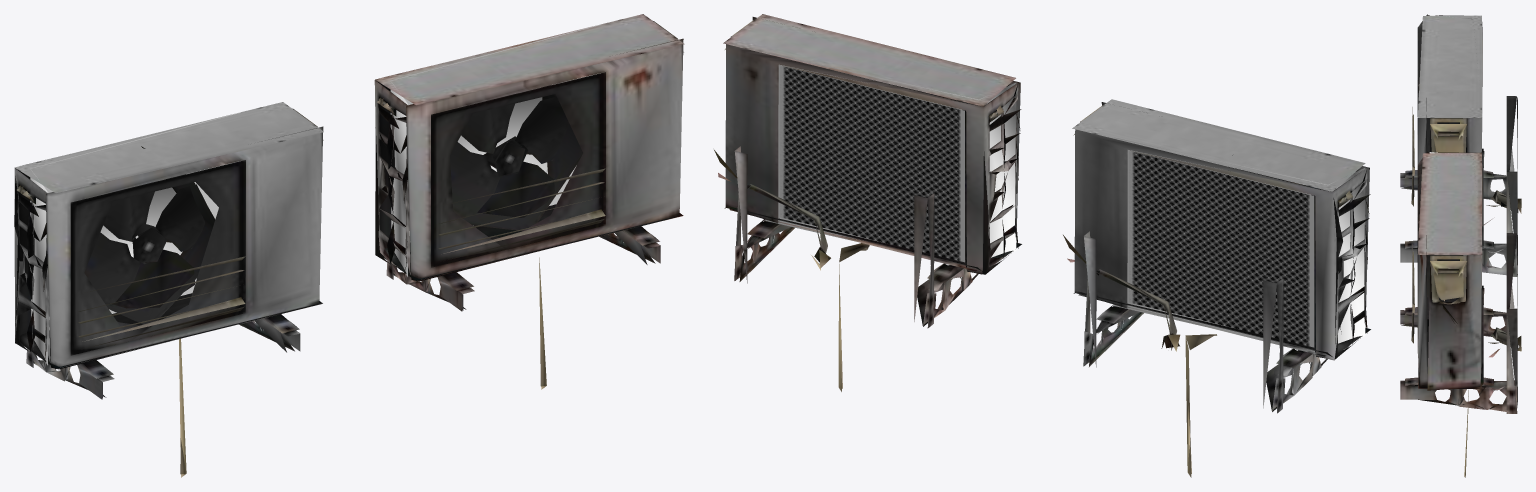
The model's file is aircon-low.glb.
3 views of the same model, side by side, from view 1: azimuth 30°, elevation 25°; view 2: azimuth 150°, elevation 25°; view 3: azimuth 270°, elevation 25° (orthographic). The views are drawn at different scales.
Parts seen in each view (by area): view 1: exterior_aircon_unit baked, exterior_aircon_unit_rusted baked; view 2: exterior_aircon_unit baked, exterior_aircon_unit_rusted baked; view 3: exterior_aircon_unit_rusted baked, exterior_aircon_unit baked.
Boxes of the visible parts, x1=… form: exterior_aircon_unit baked: x1=14, y1=102, x2=323, y2=477; exterior_aircon_unit_rusted baked: x1=374, y1=14, x2=684, y2=389; exterior_aircon_unit baked: x1=1063, y1=99, x2=1370, y2=477; exterior_aircon_unit_rusted baked: x1=714, y1=14, x2=1021, y2=391; exterior_aircon_unit_rusted baked: x1=1400, y1=151, x2=1521, y2=477; exterior_aircon_unit baked: x1=1400, y1=14, x2=1521, y2=276.
Size of the model in its own units: 1.84 by 0.9281 by 0.3813.
Materials: 4 (4 with a texture image).
